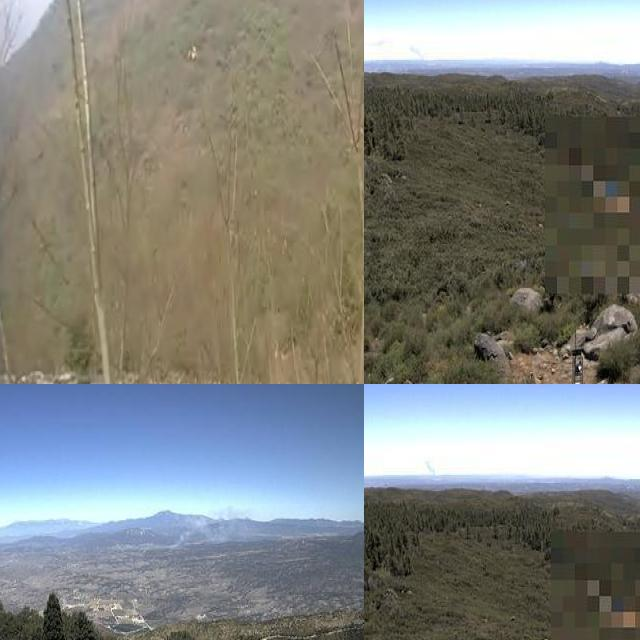smoke: (163, 502, 252, 554), (402, 44, 429, 71), (422, 459, 436, 478)
